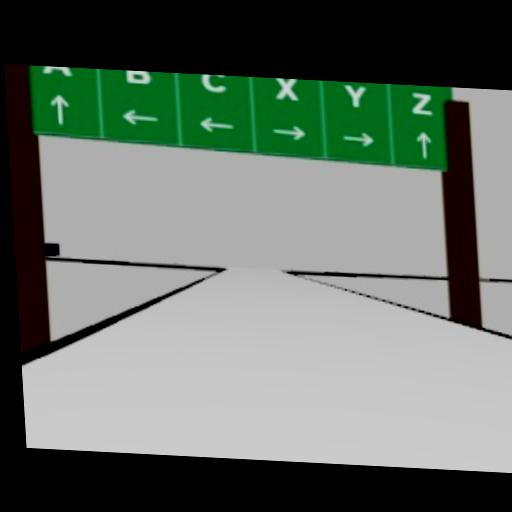A: (41, 65, 73, 76)
B: (124, 70, 152, 84)
C: (199, 74, 227, 94)
Left: (119, 107, 159, 125)
Right: (271, 122, 308, 140), (341, 129, 376, 147), (197, 117, 235, 133)
Straight: (47, 93, 69, 124), (415, 130, 431, 159)
X: (274, 79, 299, 101)
Y: (341, 83, 368, 107)
Z: (410, 91, 434, 115)
